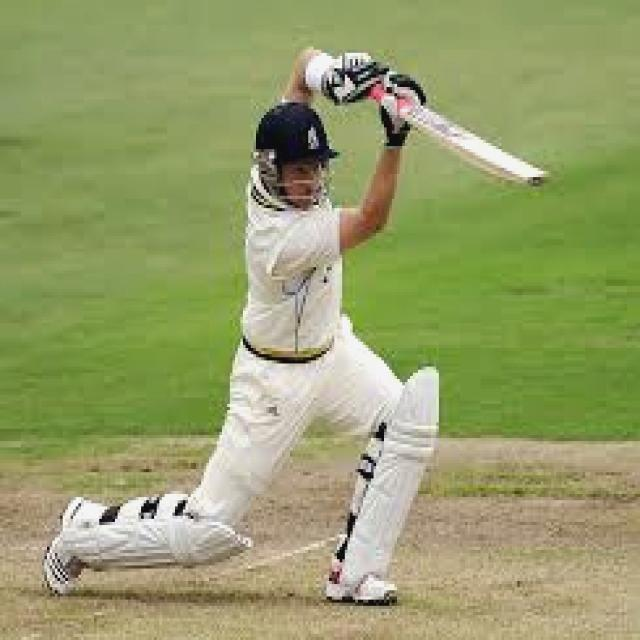bat: (403, 100, 559, 196)
toe: (520, 165, 558, 194)
